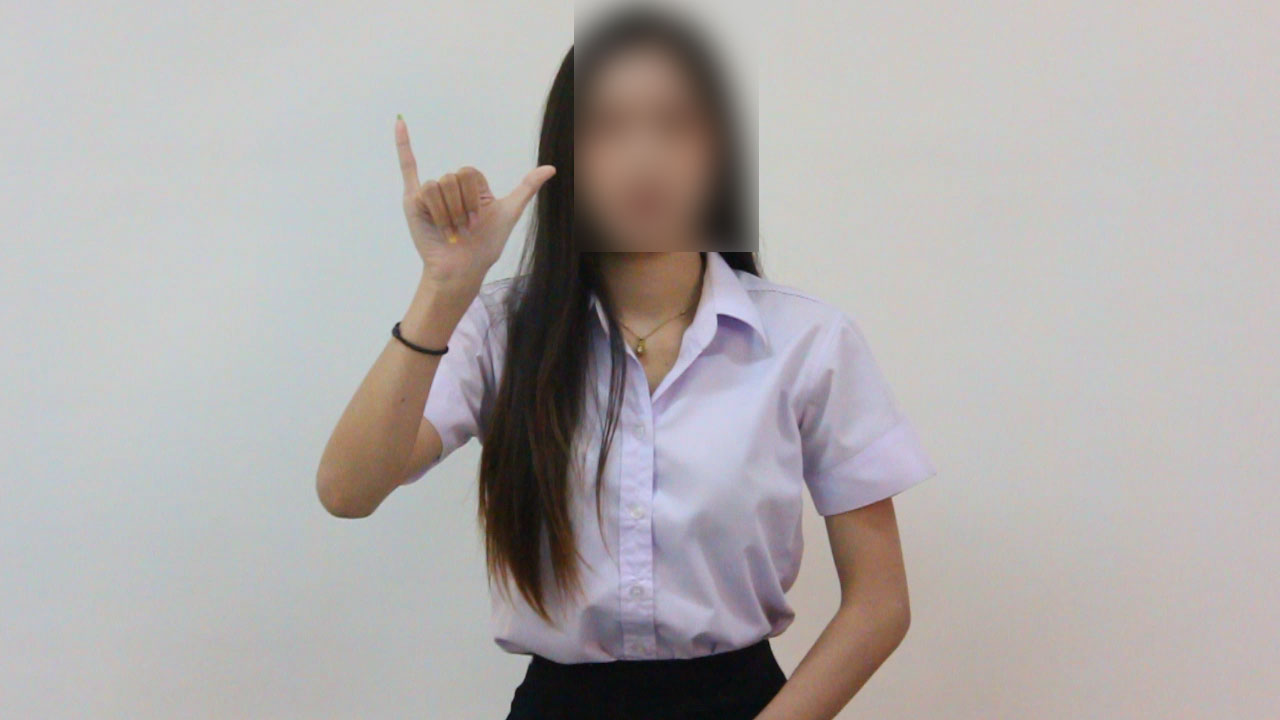yor: (375, 104, 565, 312)
